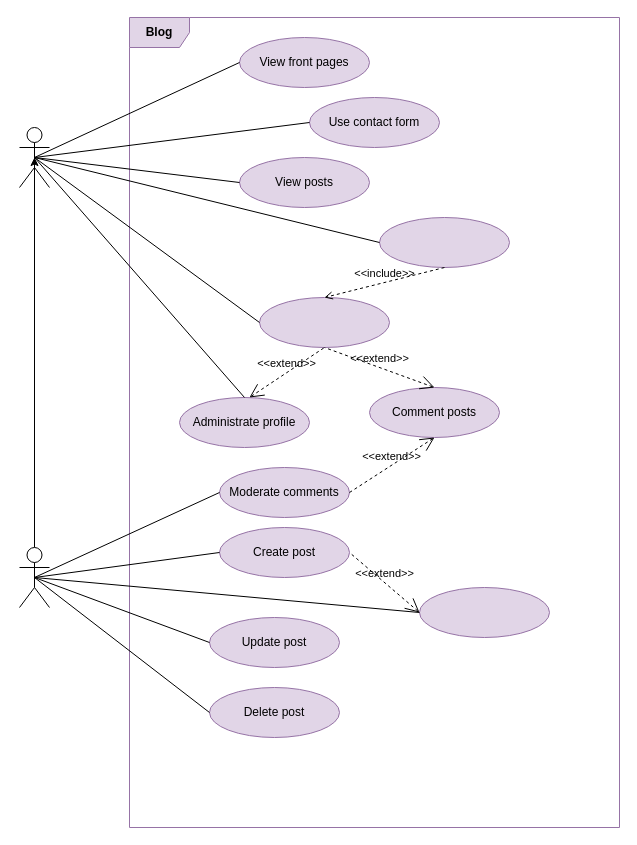
The diagram is 637 pixels wide and 845 high, and some of its shapes have lost their labels. The shapes that lost their labels are listed below. From the top down, each one's centre as x and y in pixels, then its label:
the point at 34,157: Visitor
the point at 444,242: Inscription
the point at 324,322: Connection
the point at 34,577: Admin
the point at 484,612: Edit post
